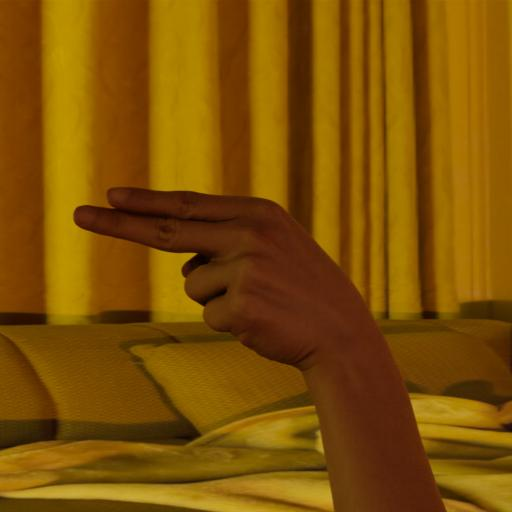H: (45, 142, 512, 508)
